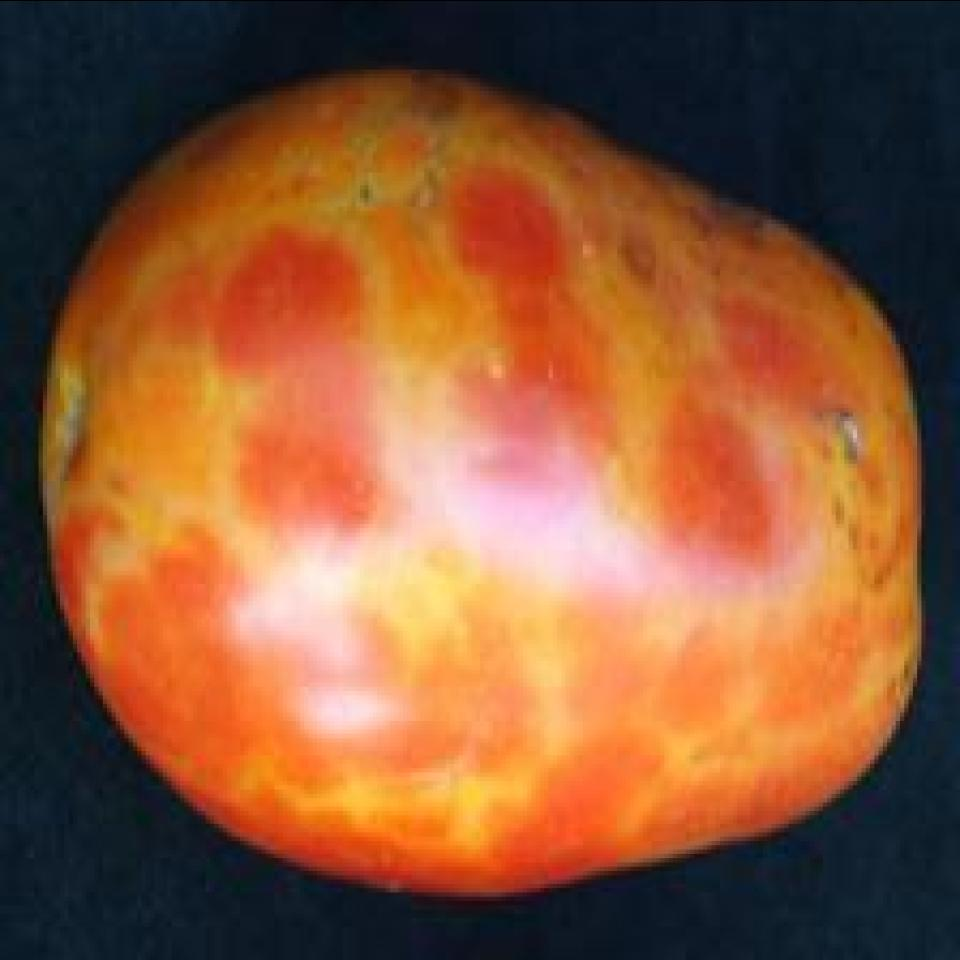Spotted wilt Virus: (40, 61, 928, 896)
